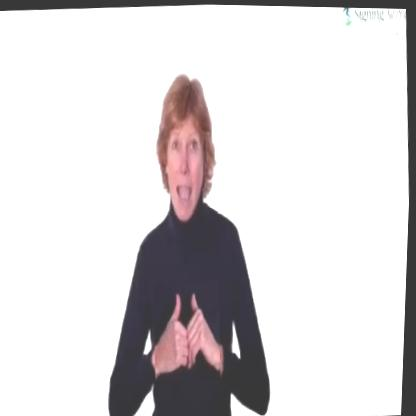HowAreYou: (153, 278, 225, 381)
